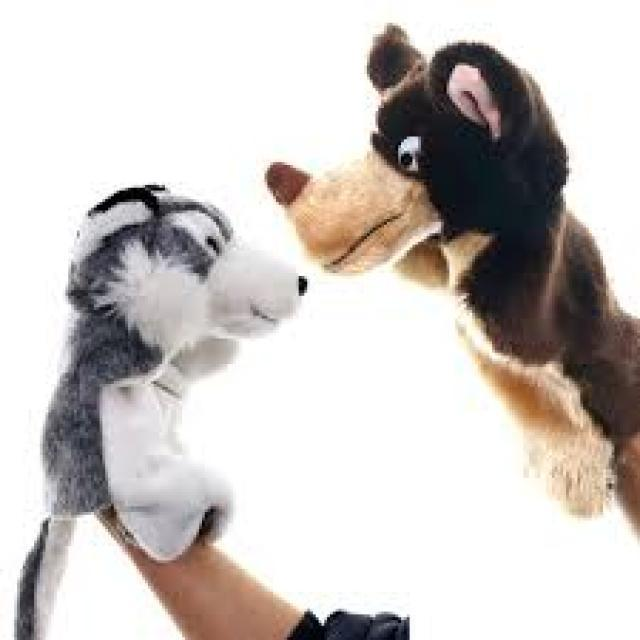soft-toy: (267, 26, 640, 532), (45, 186, 299, 562)
